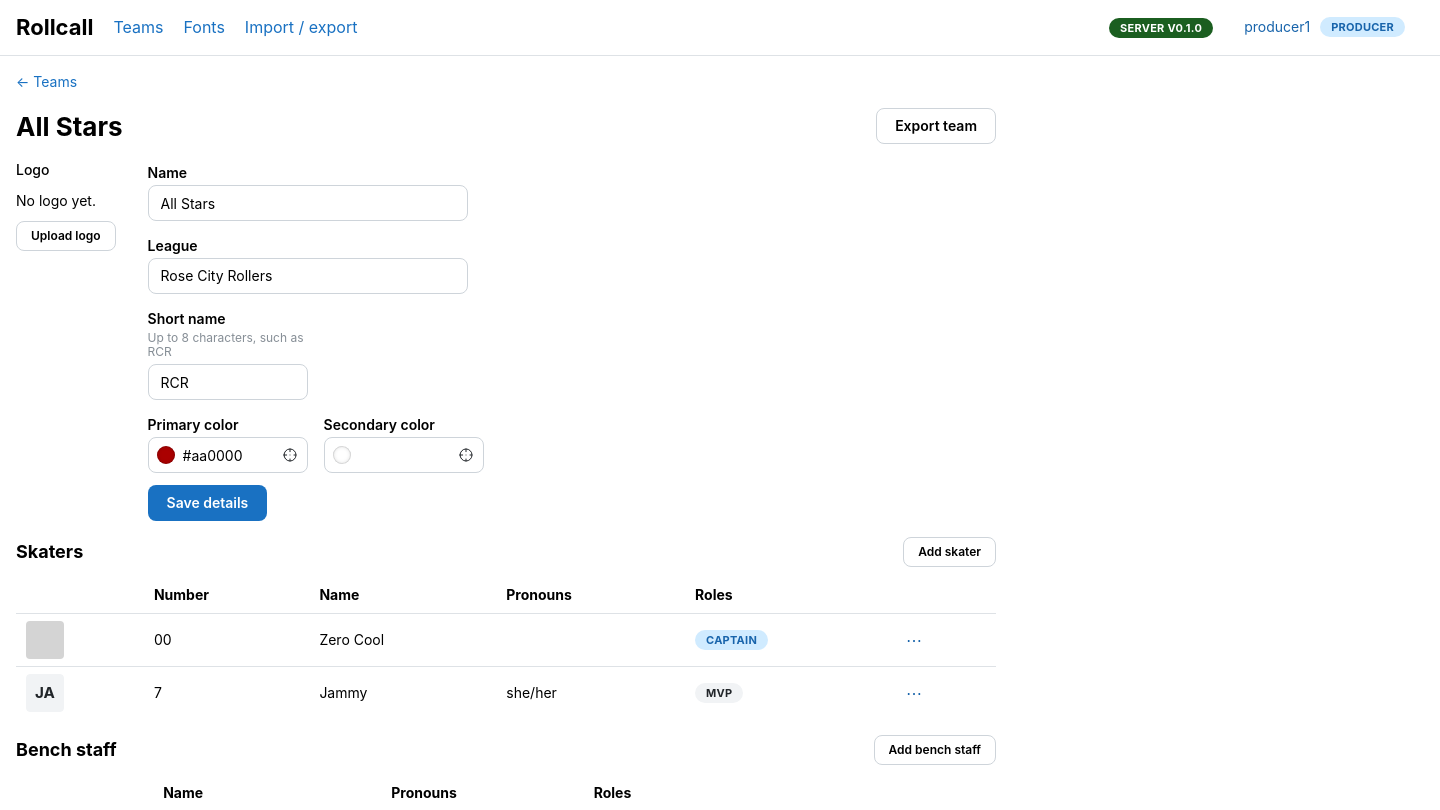
Test: the Team page › adds skaters one after another with Save and add another
Expected: the heading "All Stars" is shown, [16,109,123,144]
Click the button "Add skater". click: x=950, y=552
box: [903,537,996,567]
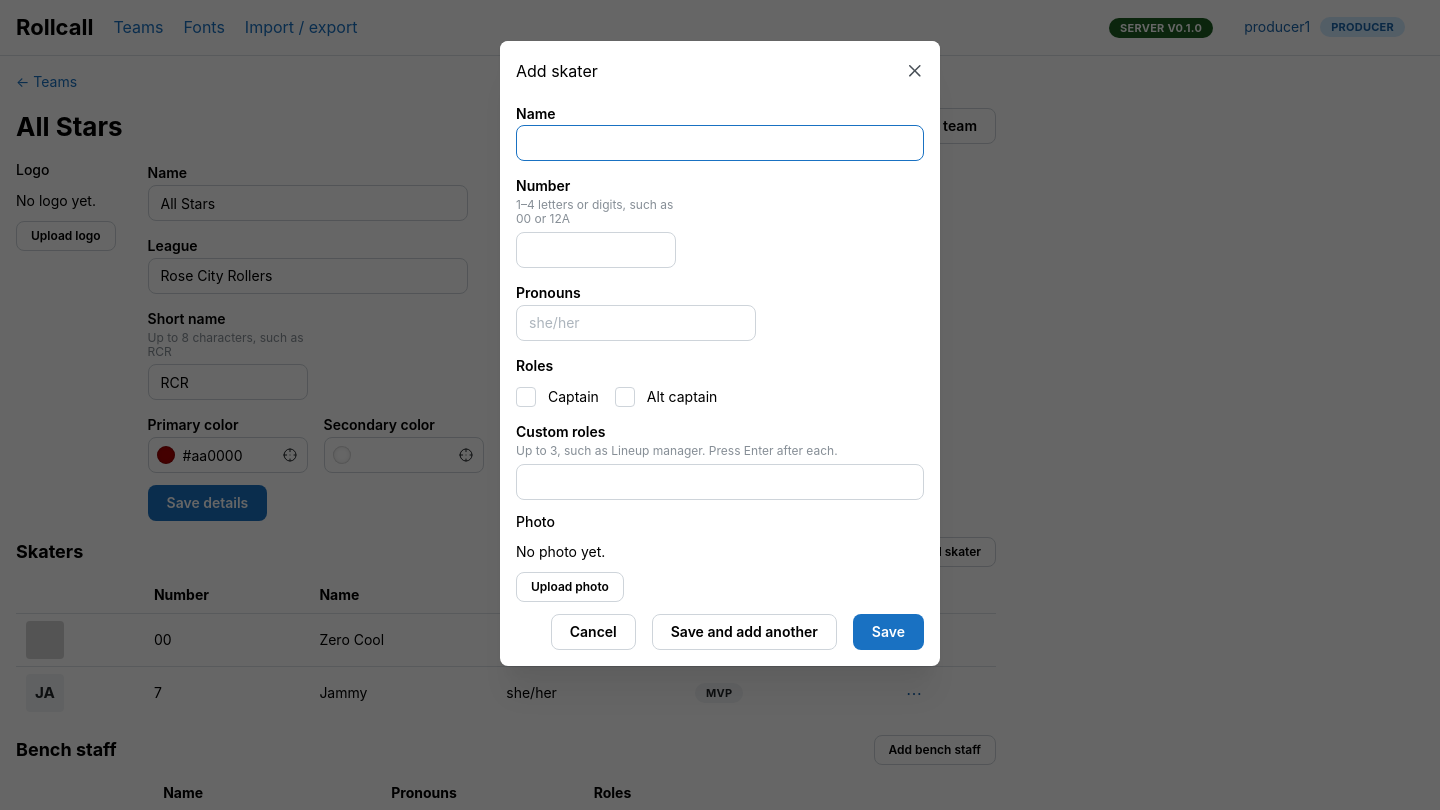
Type "Blocky" into the field labelled "Name". click: x=720, y=143
box: [516,125,924,161]
Type "12" into the field labelled "Number". click: x=596, y=250
box: [516,232,676,268]
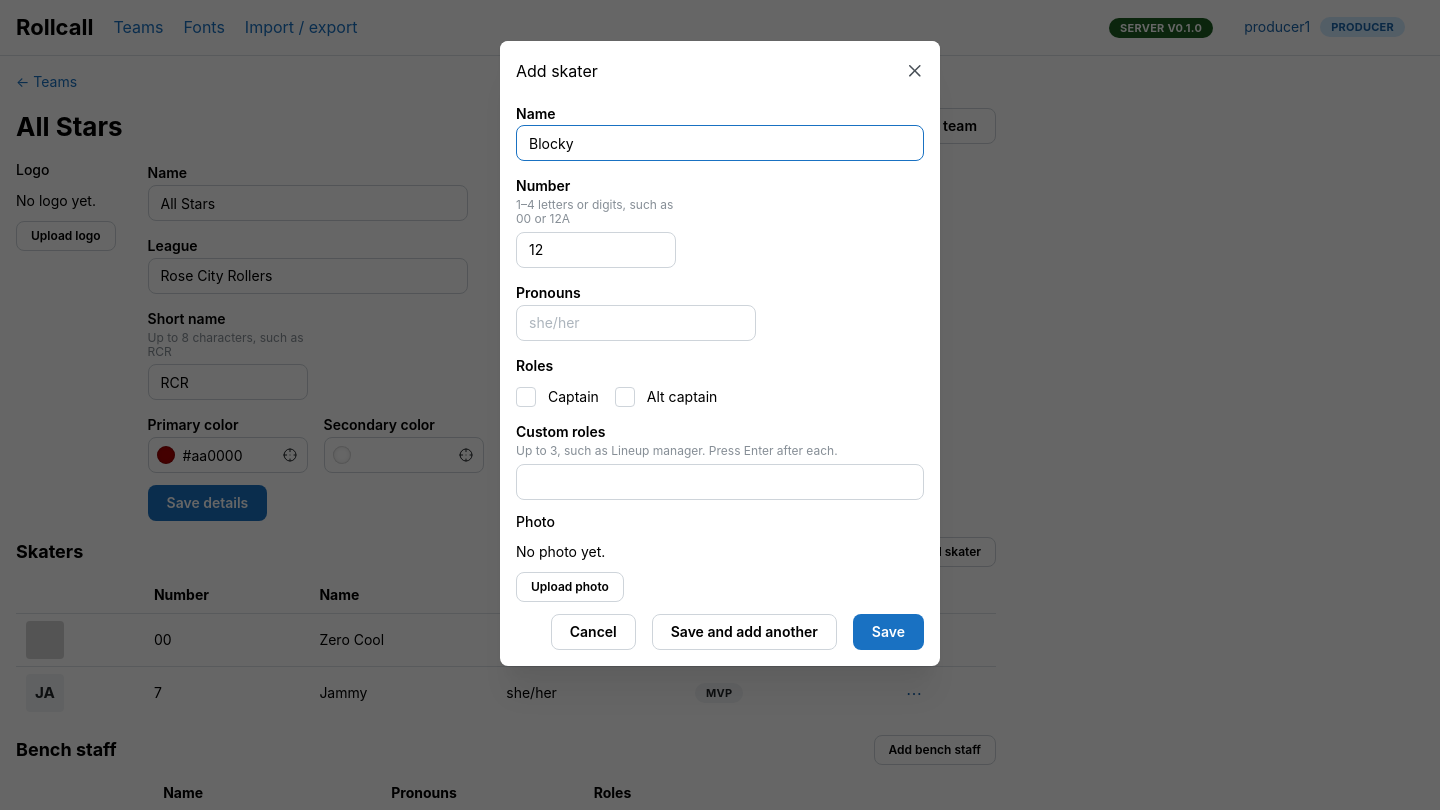
Click the button "Save and add another". click: x=744, y=632
box: [652,614,837,650]
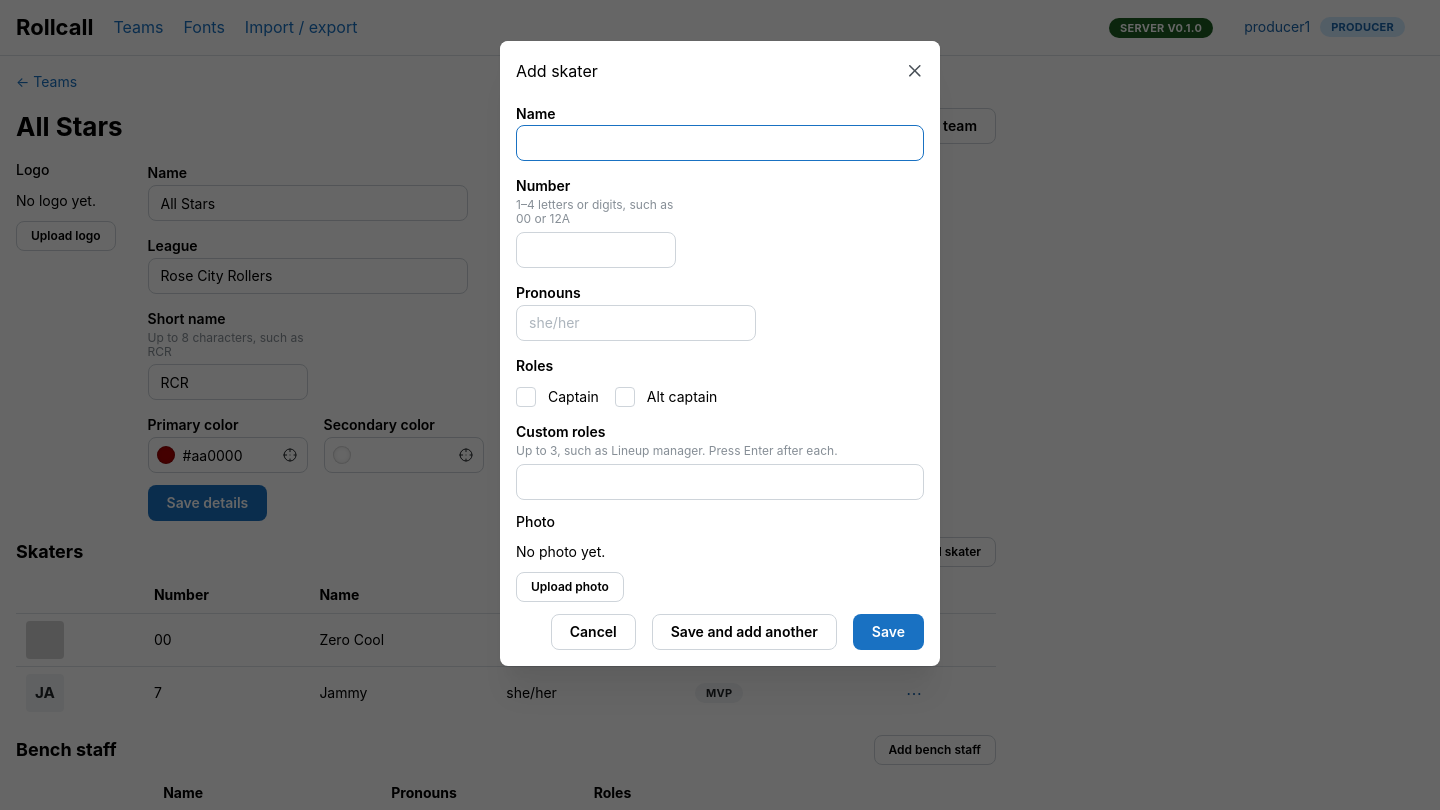
Expected: the field labelled "Name" is empty
Type "Pivot" into the field labelled "Name". click: x=720, y=143
box: [516,125,924,161]
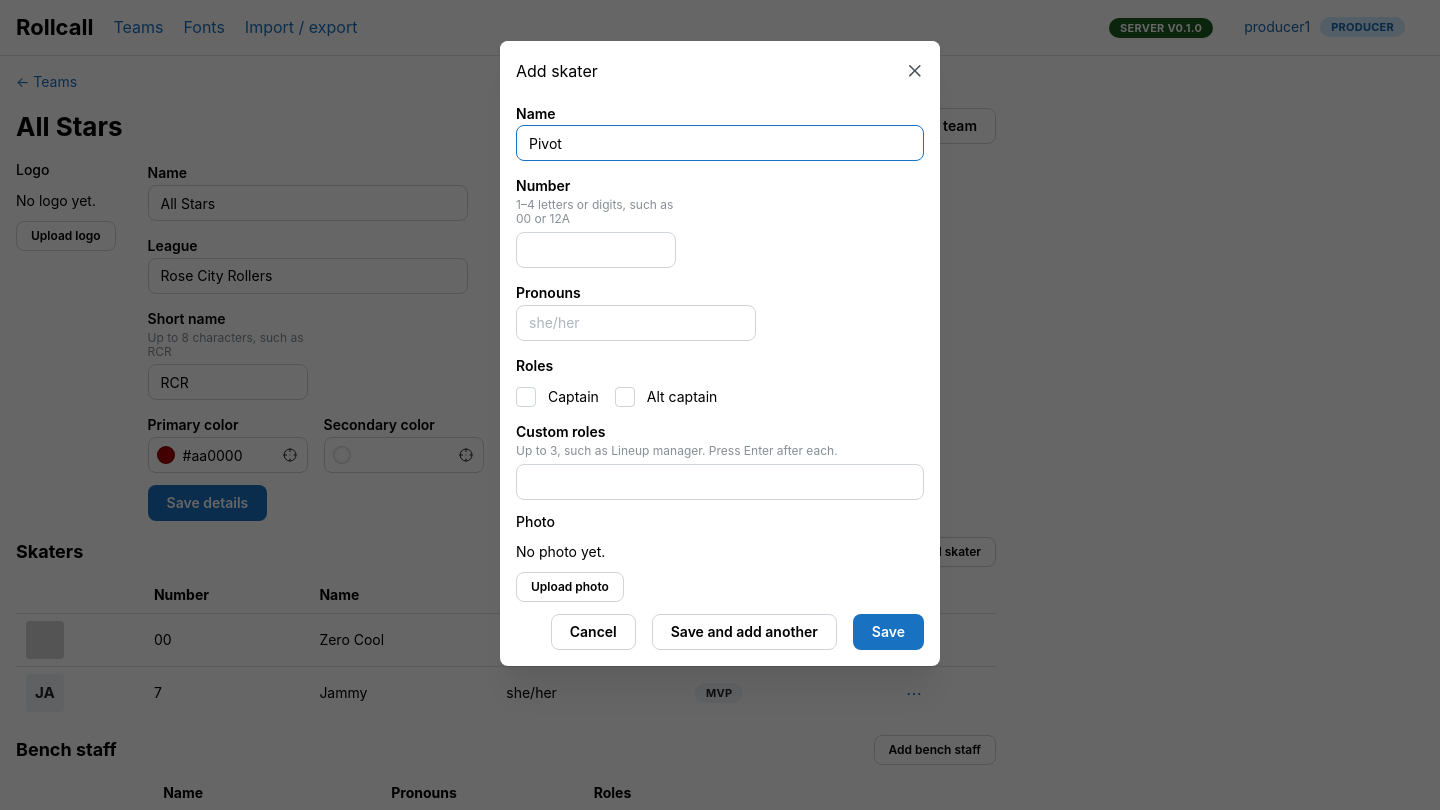
Type "21" into the field labelled "Number". click: x=596, y=250
box: [516,232,676,268]
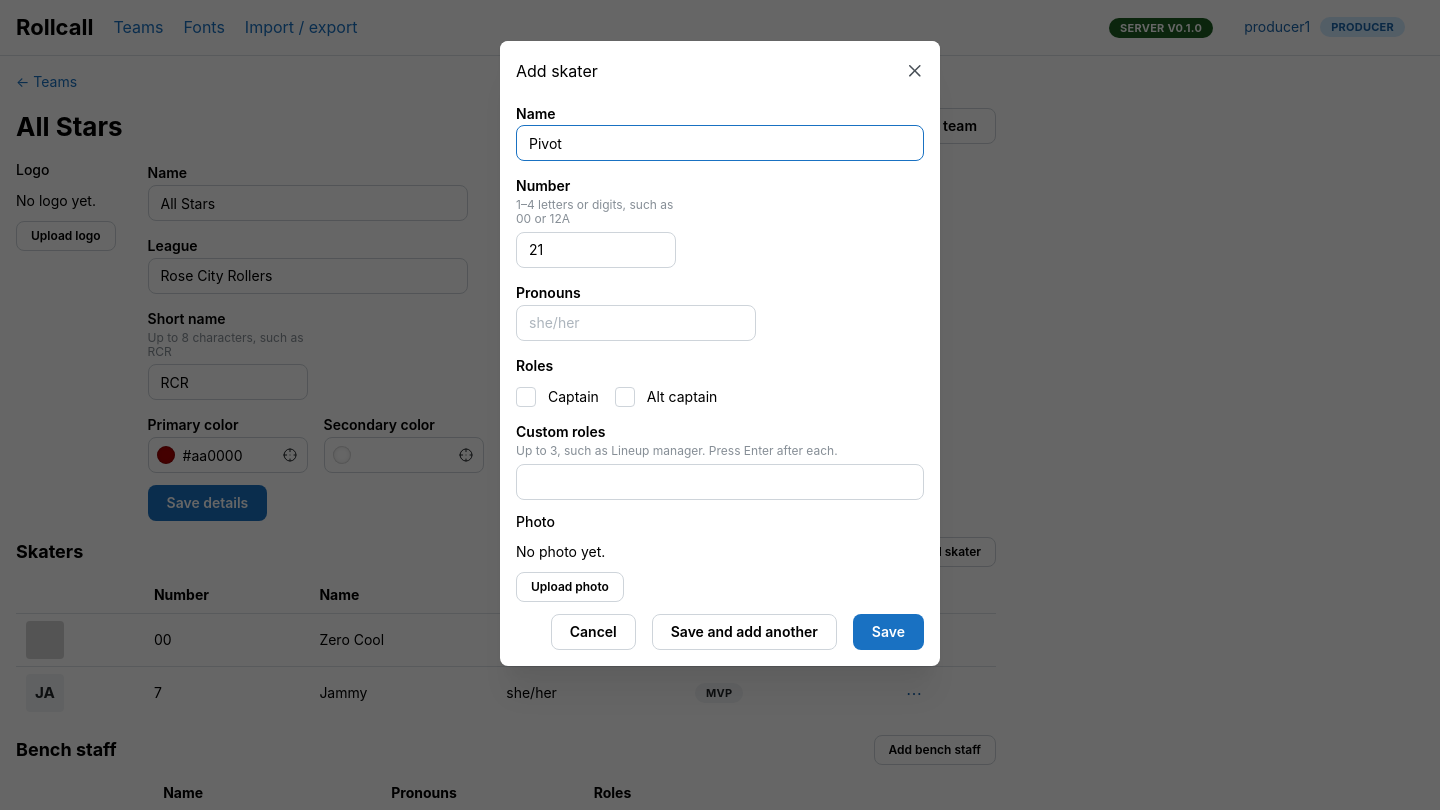
Click the button "Save". click: x=888, y=632
box: [853,614,924,650]
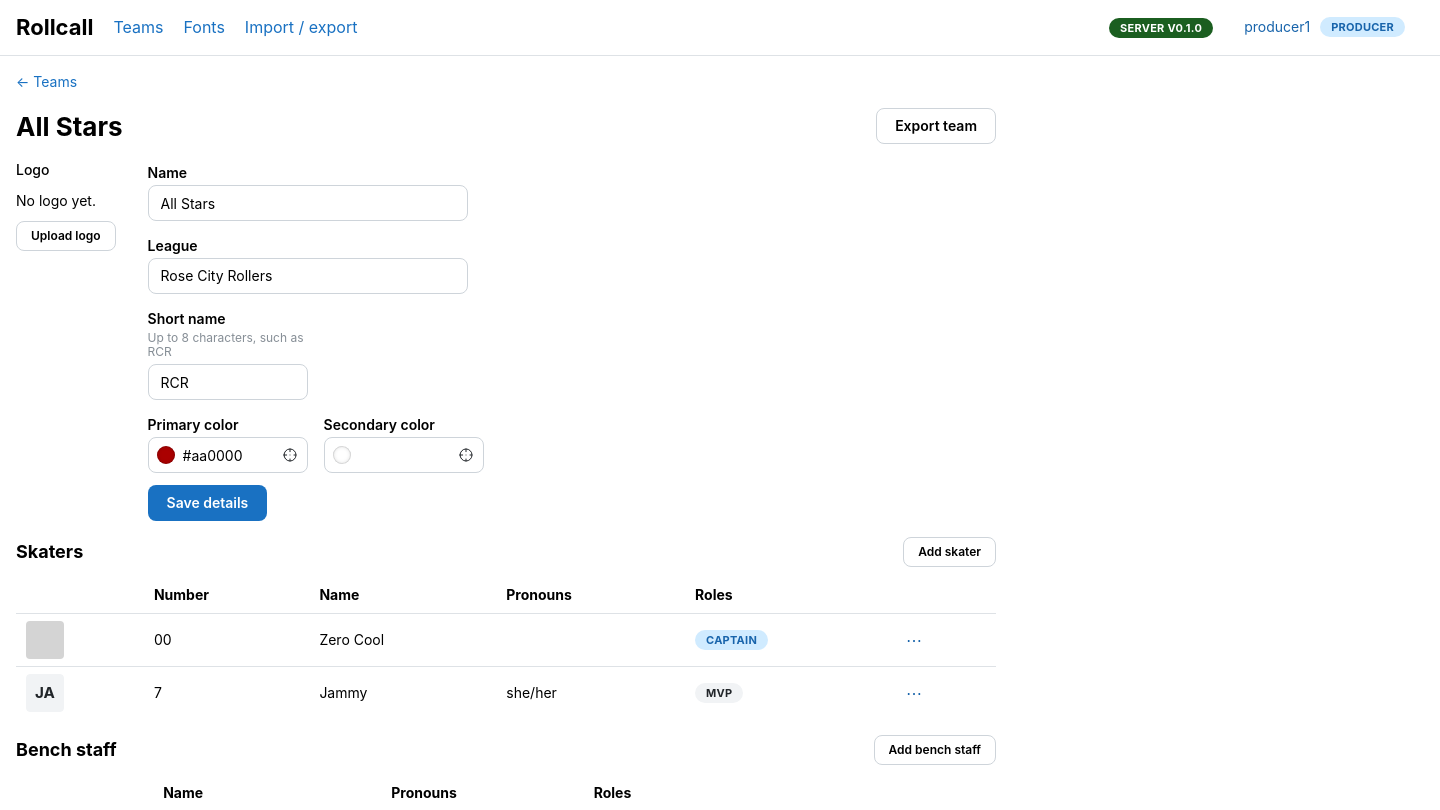
Expected: the dialog is gone
